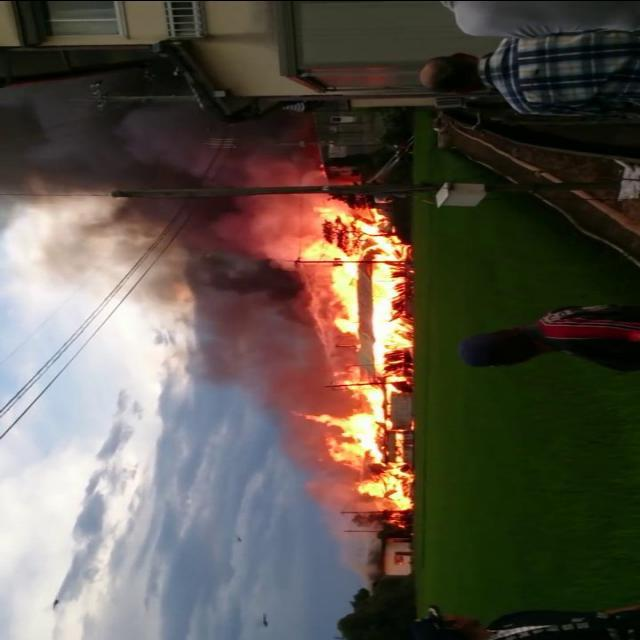Fire: (303, 206, 413, 529)
